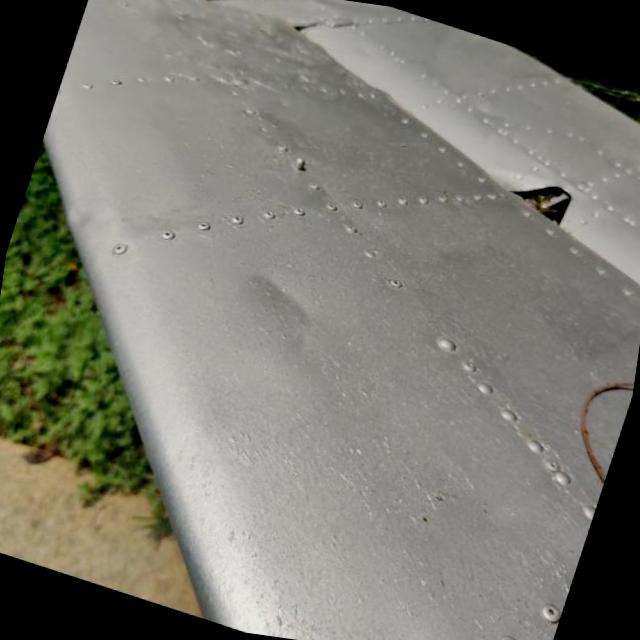dent: (236, 260, 331, 340), (64, 196, 113, 248)
